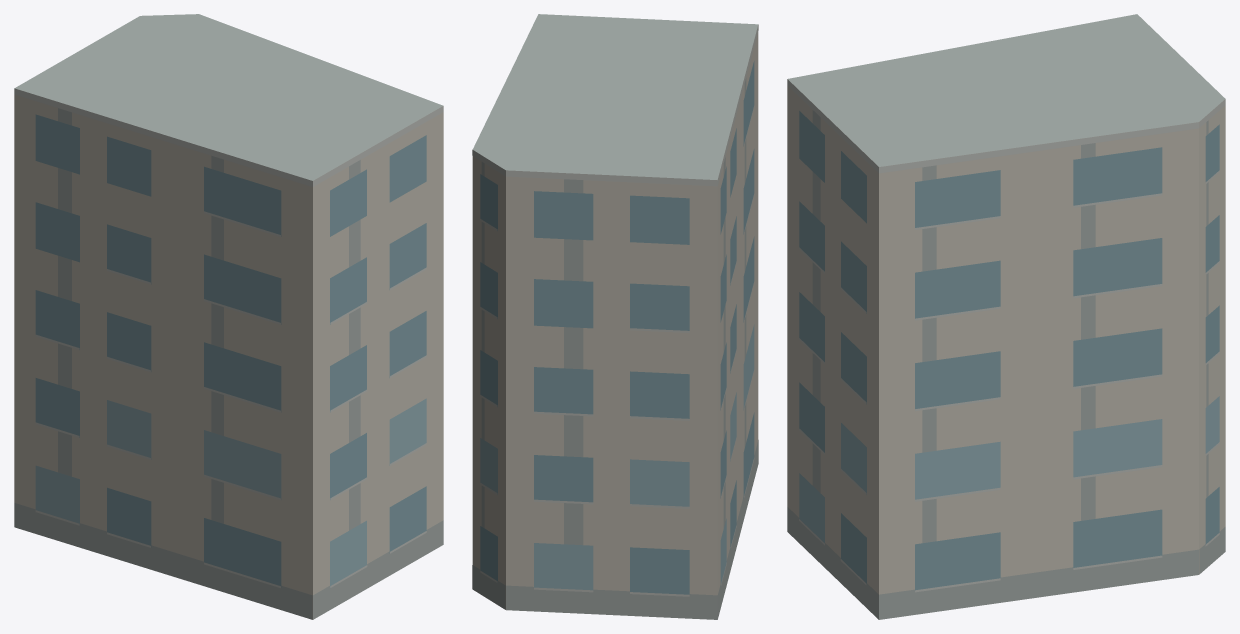
The model's file is survey-upis-32490446.glb.
The picture shows the model from 3 angles, left to right: view 1: azimuth 30°, elevation 25°; view 2: azimuth 150°, elevation 25°; view 3: azimuth 270°, elevation 25°; orthographic projection. The views are drawn at different scales.
Parts seen in each view (by area): view 1: survey-upis-32490446.tmp; view 2: survey-upis-32490446.tmp; view 3: survey-upis-32490446.tmp.
Part boxes in pixels (x1,y1,x2,y2): survey-upis-32490446.tmp: [14, 14, 443, 619]; survey-upis-32490446.tmp: [472, 14, 758, 619]; survey-upis-32490446.tmp: [787, 14, 1225, 619].
Bounding box in the file's own units: 12.55 × 17.3 × 15.18.
